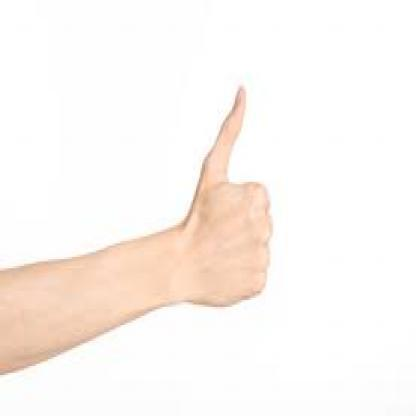thumb_up: (179, 80, 273, 310)
